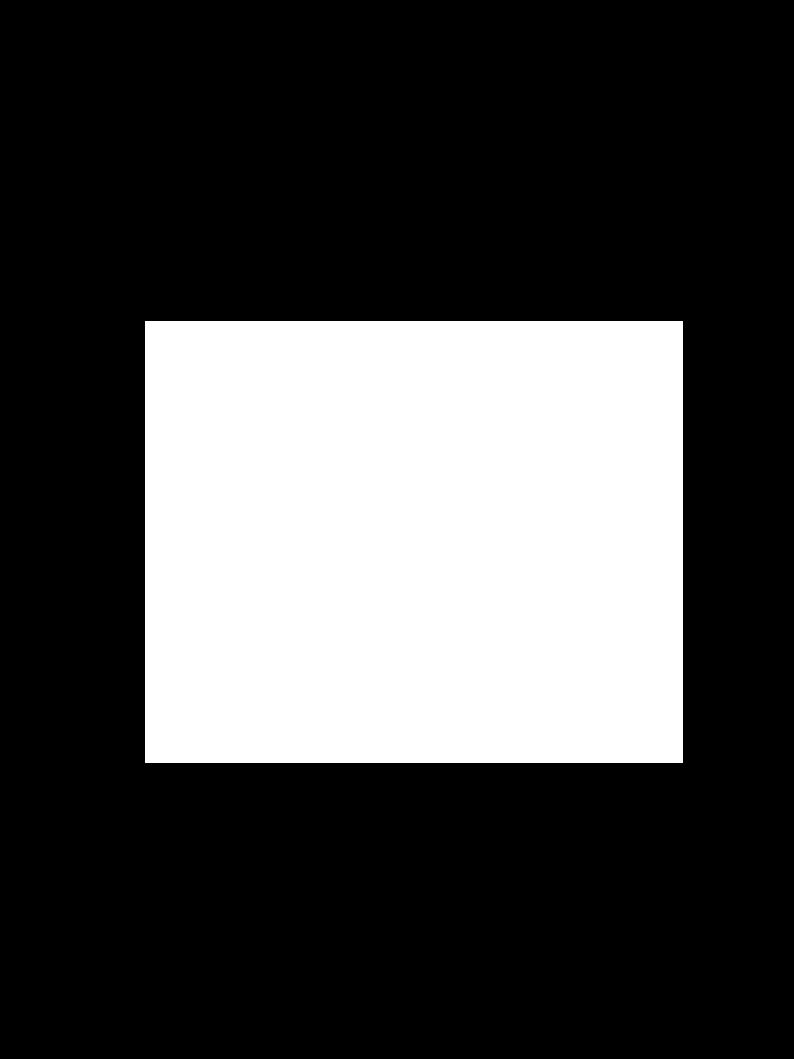table: (145, 321, 682, 762)
